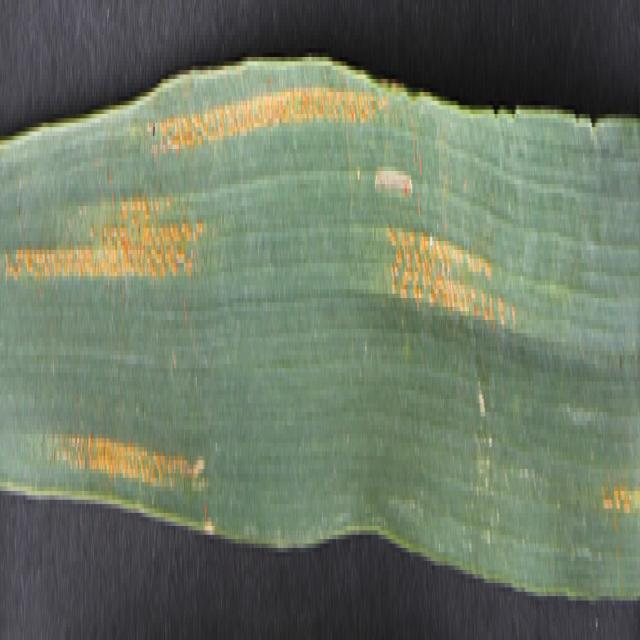leaf rust: (5, 184, 213, 522), (142, 35, 378, 193), (382, 140, 522, 382)
